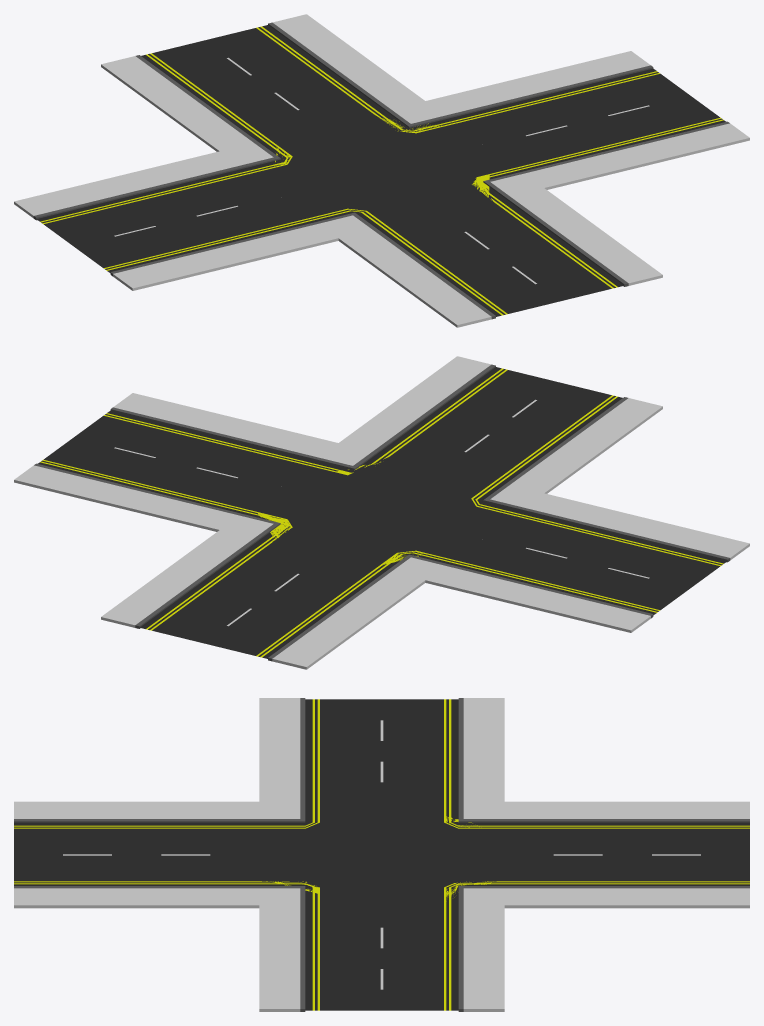
File: m_e_s_road_4_intersection_full.fbx
3 renders of one model, top to bottom at view 1: azimuth 30°, elevation 25°; view 2: azimuth 150°, elevation 25°; view 3: azimuth 270°, elevation 25°, orthographic. The views are drawn at different scales.
Parts seen in each view (by area): view 1: Cube.004, Cube.005, Cube.016, Cube.012, Cube.009, Cube.013, Cube.007, Cube.011, Cube.014, Cube.008, Cube.006, Cube.015 (+5 smaller); view 2: Cube.004, Cube.016, Cube.005, Cube.012, Cube.009, Cube.014, Cube.008, Cube.006, Cube.013, Cube.007, Cube.011, Cube.010 (+5 smaller); view 3: Cube.004, Cube.009, Cube.012, Cube.005, Cube.016, Cube.010, Cube.015, Cube.006, Cube.011, Cube.007, Cube.008, Cube.014 (+5 smaller).
Boxes of the visible parts, left/top/right/bottom form: Cube.004: left=242, top=112, right=519, bottom=229; Cube.005: left=141, top=25, right=386, bottom=142; Cube.016: left=378, top=199, right=623, bottom=316; Cube.012: left=36, top=169, right=314, bottom=273; Cube.009: left=448, top=68, right=725, bottom=171; Cube.013: left=110, top=222, right=338, bottom=290; Cube.007: left=522, top=121, right=749, bottom=189; Cube.011: left=338, top=229, right=495, bottom=327; Cube.014: left=14, top=151, right=241, bottom=220; Cube.008: left=426, top=51, right=653, bottom=118; Cube.006: left=101, top=55, right=257, bottom=151; Cube.015: left=505, top=188, right=662, bottom=286; Cube.004: left=244, top=454, right=521, bottom=571; Cube.016: left=377, top=367, right=622, bottom=484; Cube.005: left=140, top=541, right=385, bottom=658; Cube.012: left=449, top=511, right=727, bottom=615; Cube.009: left=38, top=410, right=315, bottom=513; Cube.014: left=425, top=564, right=653, bottom=632; Cube.008: left=14, top=463, right=241, bottom=531; Cube.006: left=268, top=571, right=425, bottom=669; Cube.013: left=522, top=493, right=749, bottom=562; Cube.007: left=110, top=393, right=337, bottom=460; Cube.011: left=506, top=397, right=662, bottom=493; Cube.010: left=101, top=530, right=258, bottom=628; Cube.004: left=259, top=803, right=504, bottom=906; Cube.009: left=305, top=907, right=458, bottom=1010; Cube.012: left=305, top=699, right=458, bottom=802; Cube.005: left=504, top=822, right=749, bottom=885; Cube.016: left=14, top=822, right=259, bottom=885; Cube.010: left=504, top=886, right=749, bottom=908; Cube.015: left=14, top=886, right=259, bottom=908; Cube.006: left=504, top=801, right=749, bottom=822; Cube.011: left=14, top=801, right=259, bottom=822; Cube.007: left=259, top=905, right=305, bottom=1011; Cube.008: left=458, top=905, right=504, bottom=1011; Cube.014: left=458, top=698, right=504, bottom=801.
Bounding box in the file's own units: 4800 × 20 × 4800.
